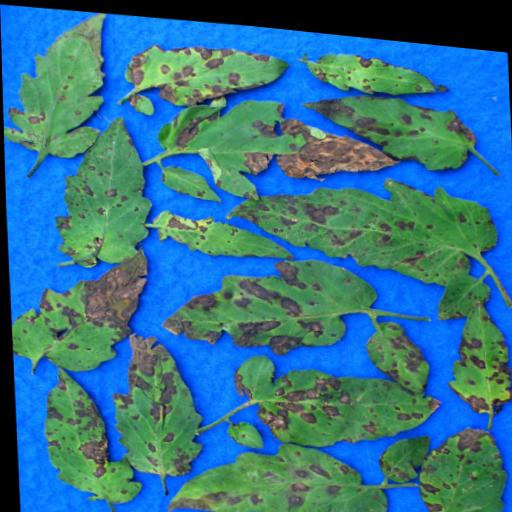Early Blight: (220, 160, 500, 289), (154, 80, 397, 207), (159, 242, 381, 358), (235, 345, 448, 449), (6, 237, 147, 382), (159, 425, 387, 512), (0, 4, 108, 162), (49, 116, 150, 276), (302, 78, 476, 167), (108, 322, 202, 478), (108, 34, 294, 112), (37, 366, 132, 507), (441, 287, 512, 421), (411, 411, 503, 512), (297, 38, 449, 97), (144, 199, 292, 259), (362, 312, 427, 385), (160, 152, 228, 200), (371, 426, 427, 476)
